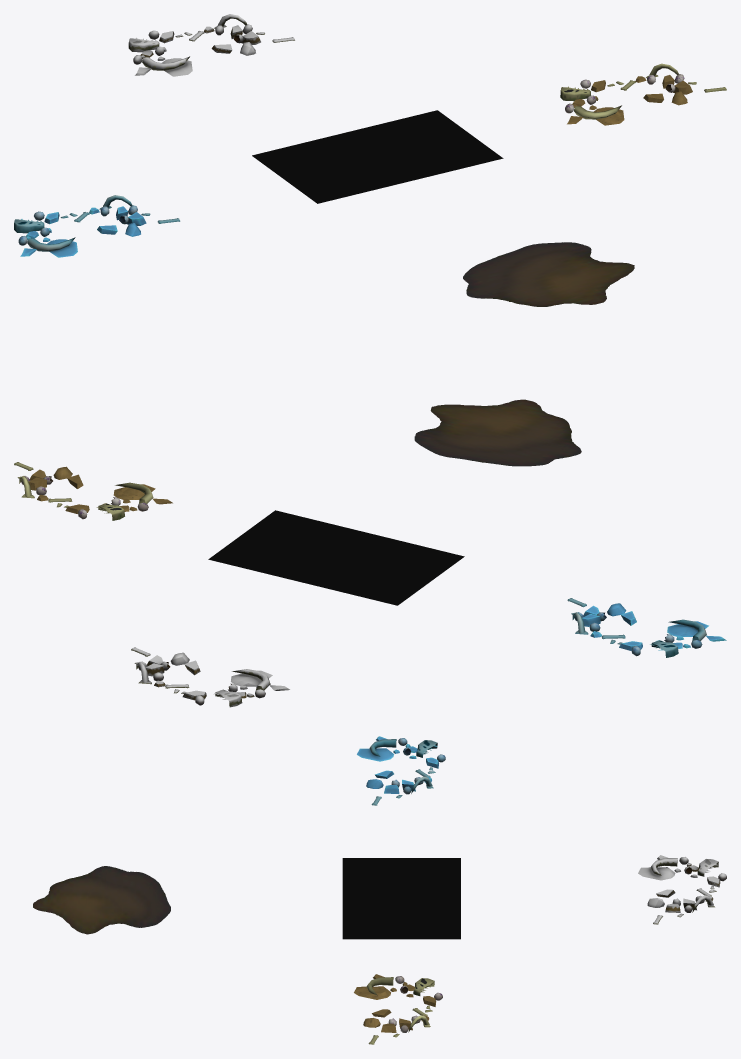
The model's file is eggnest.fbx.
3 renders of one model, top to bottom at view 1: azimuth 30°, elevation 25°; view 2: azimuth 150°, elevation 25°; view 3: azimuth 270°, elevation 25°, orthographic. The views are drawn at different scales.
Visible parts, largest first — view 1: dirt_2, dirt_1, eggnest_1, eggnest_ice, eggnest_forest; view 2: dirt_2, dirt_1, eggnest_1, eggnest_ice, eggnest_forest; view 3: dirt_2, dirt_1, eggnest_forest, eggnest_ice, eggnest_1.
Part boxes in pixels (left/top/right/bottom): dirt_2: left=252, top=110, right=503, bottom=203; dirt_1: left=463, top=242, right=634, bottom=306; eggnest_1: left=128, top=14, right=294, bottom=76; eggnest_ice: left=14, top=195, right=180, bottom=257; eggnest_forest: left=560, top=63, right=726, bottom=125; dirt_2: left=208, top=510, right=464, bottom=605; dirt_1: left=414, top=399, right=581, bottom=466; eggnest_1: left=131, top=647, right=289, bottom=707; eggnest_ice: left=567, top=598, right=726, bottom=657; eggnest_forest: left=14, top=462, right=172, bottom=520; dirt_2: left=342, top=858, right=460, bottom=939; dirt_1: left=33, top=866, right=170, bottom=934; eggnest_forest: left=354, top=974, right=442, bottom=1044; eggnest_ice: left=357, top=736, right=445, bottom=805; eggnest_1: left=638, top=855, right=726, bottom=924.
Bounding box in the file's own units: 3883 × 95.35 × 3803.
